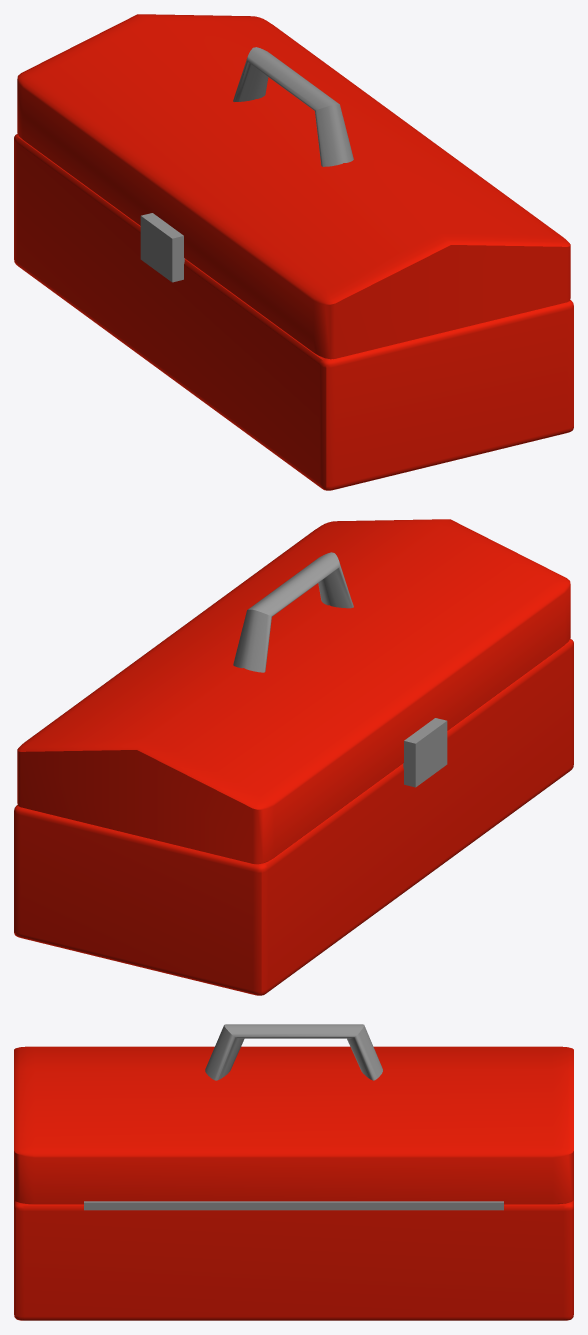
Rendered from toolbox.fbx.
3 views of the same model, one above another, from view 1: azimuth 30°, elevation 25°; view 2: azimuth 150°, elevation 25°; view 3: azimuth 270°, elevation 25° (orthographic). The views are drawn at different scales.
Parts seen in each view (by area): view 1: Toolbox_Lid, Toolbox_Box; view 2: Toolbox_Lid, Toolbox_Box; view 3: Toolbox_Lid, Toolbox_Box.
Part boxes in pixels (x1,y1,x2,y2): Toolbox_Lid: (17, 14, 570, 359); Toolbox_Box: (14, 134, 573, 490); Toolbox_Lid: (17, 519, 570, 864); Toolbox_Box: (14, 639, 573, 995); Toolbox_Lid: (14, 1024, 573, 1204); Toolbox_Box: (14, 1200, 573, 1320).
Size of the model in its own units: 317 by 311 by 650.
